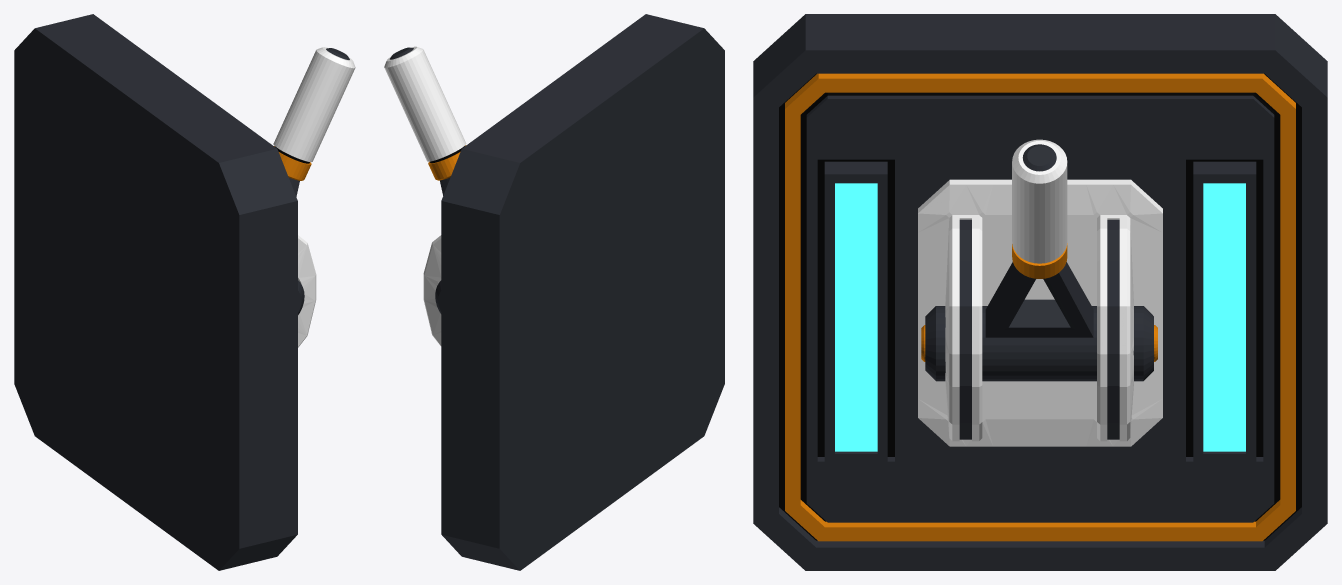
File: SM_Switch.fbx
The picture shows the model from 3 angles, left to right: view 1: azimuth 30°, elevation 25°; view 2: azimuth 150°, elevation 25°; view 3: azimuth 270°, elevation 25°; orthographic projection. The views are drawn at different scales.
Visible parts, largest first — view 1: SM_Switch_Base, SM_Switch_Levier; view 2: SM_Switch_Base, SM_Switch_Levier; view 3: SM_Switch_Base, SM_Switch_Levier.
Part boxes in pixels (box(x1,y1,x2,y2)): SM_Switch_Base: box(14, 14, 316, 570); SM_Switch_Levier: box(273, 47, 355, 314); SM_Switch_Base: box(423, 14, 724, 570); SM_Switch_Levier: box(384, 46, 466, 313); SM_Switch_Base: box(753, 14, 1327, 570); SM_Switch_Levier: box(921, 139, 1157, 381).
Size of the model in its own units: 26.21 by 45.35 by 45.35.
